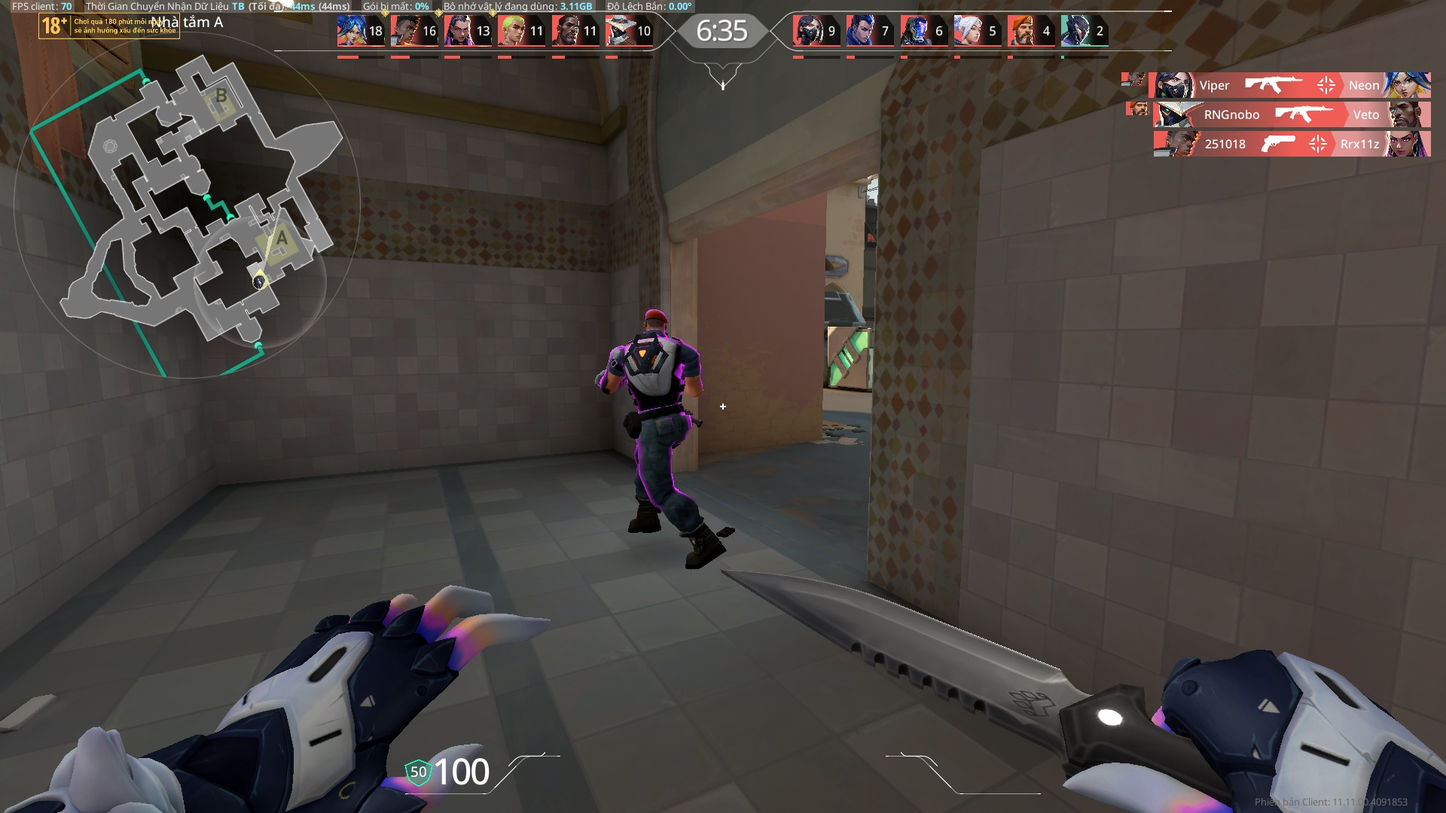body: (613, 334, 698, 434)
head: (639, 304, 671, 342)
